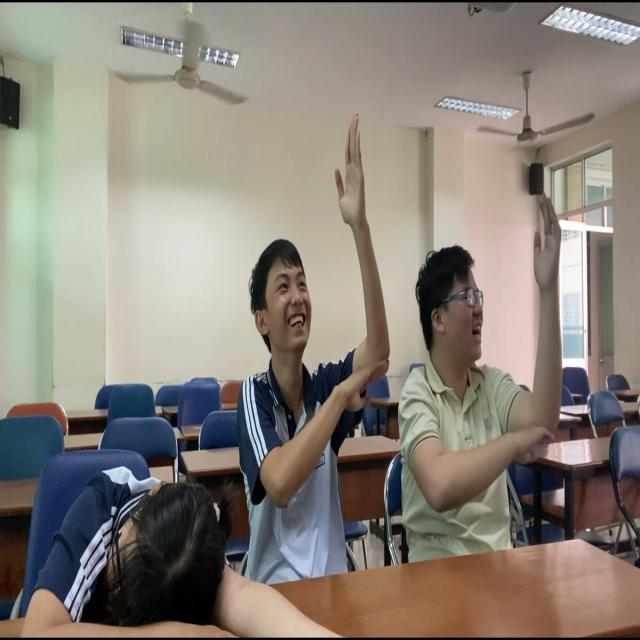raise_hand: (235, 117, 395, 570), (404, 202, 569, 545)
sleep: (1, 459, 240, 640)
